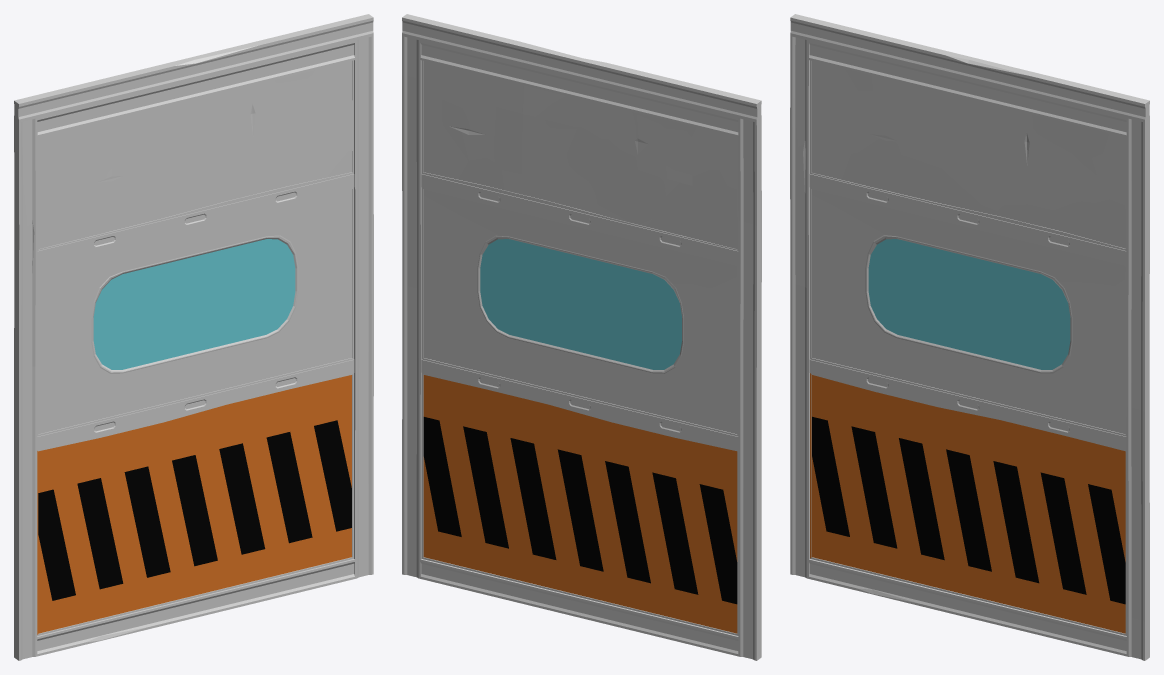
The model's file is SM_Wall_01.glb.
3 renders of one model, left to right at view 1: azimuth 30°, elevation 25°; view 2: azimuth 150°, elevation 25°; view 3: azimuth 330°, elevation 25°, orthographic.
Parts seen in each view (by area): view 1: SM_Wall_01; view 2: SM_Wall_01; view 3: SM_Wall_01.
Boxes of the visible parts, box(x1,y1,x2,y2) form: SM_Wall_01: box(14, 14, 373, 660); SM_Wall_01: box(402, 14, 761, 660); SM_Wall_01: box(790, 14, 1149, 660).
Bounding box in the file's own units: 2 × 3 × 0.05.
